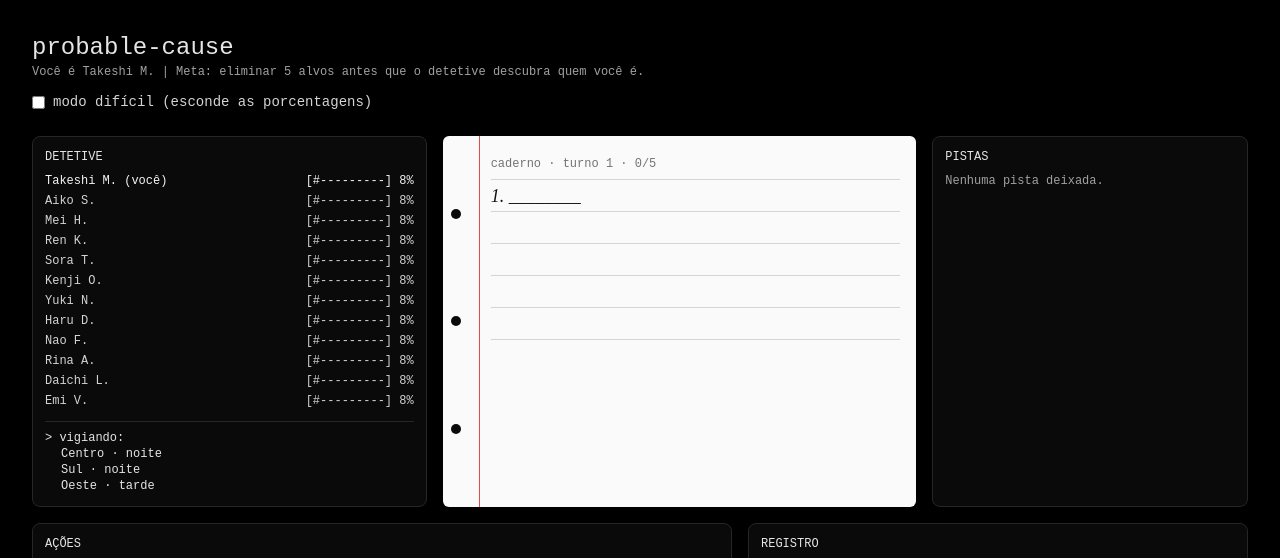
App › hides the percentages in hard mode
This screenshot has width=1280, height=558.
Expected: the text "[#---------] 8%" next to "(você)" is shown, [306,174,414,188]
Step 1. Click the checkbox labelled "modo difícil (esconde as porcentagens)" → (38, 102), box [32,96,45,108]
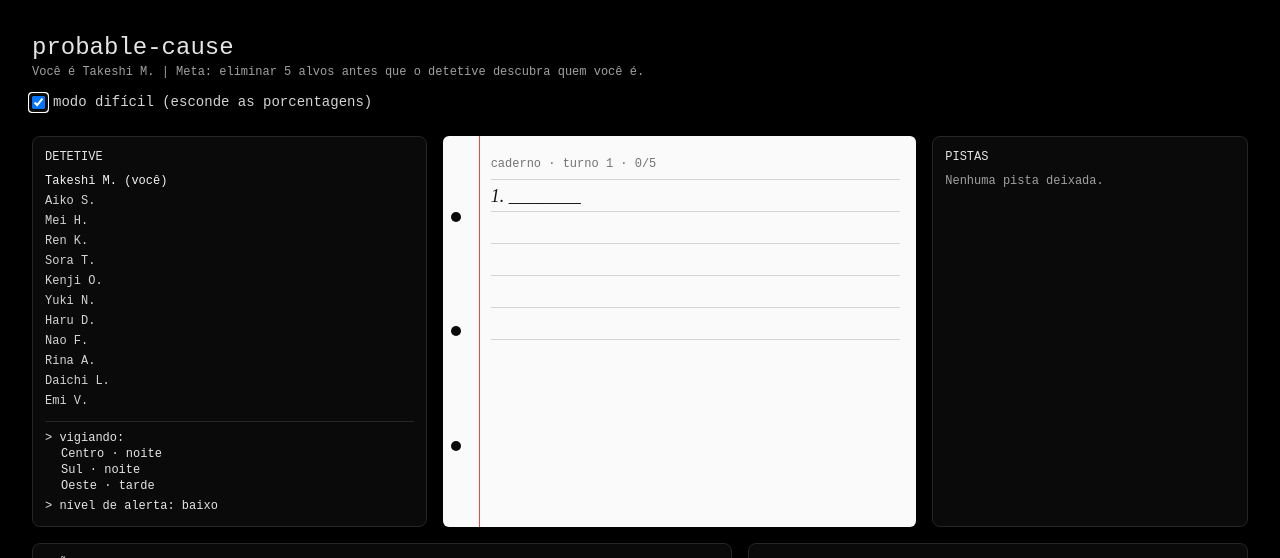
Expected: the text "[#---------] 8%" is gone
Expected: the text "> nível de alerta: baixo" is shown, [45,499,218,513]
